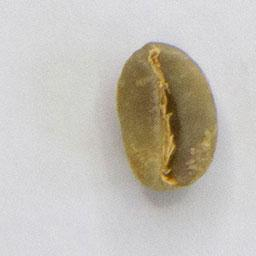longberry: (113, 37, 222, 192)
